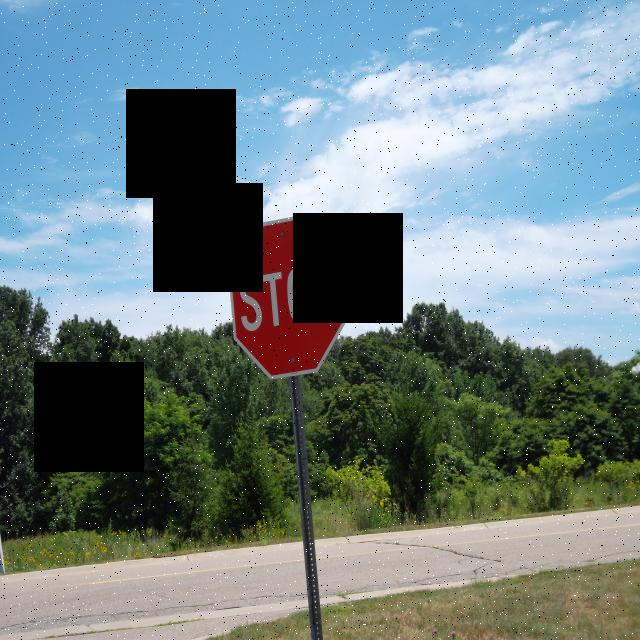stop: (228, 202, 351, 381)
